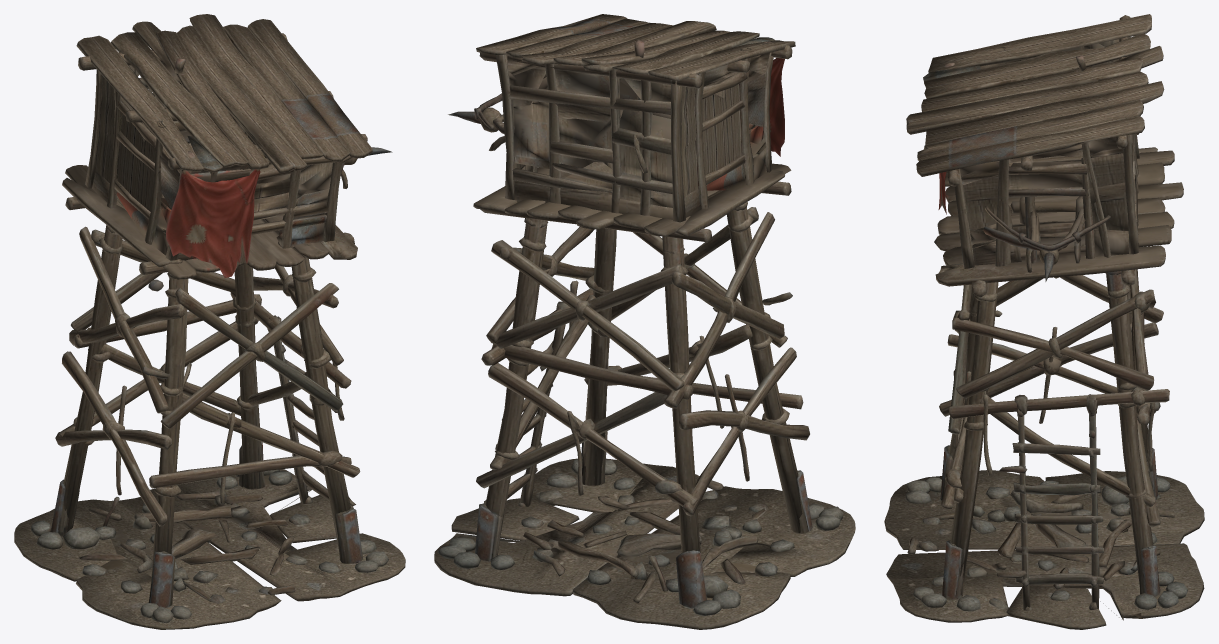
Rendered from goblin_sharpshooter.glb.
The picture shows the model from 3 angles, left to right: view 1: azimuth 30°, elevation 25°; view 2: azimuth 150°, elevation 25°; view 3: azimuth 270°, elevation 25°; orthographic projection. The views are drawn at different scales.
Size of the model in its own units: 0.6998 by 0.9996 by 0.5759.
Materials: 1 (1 with a texture image).
